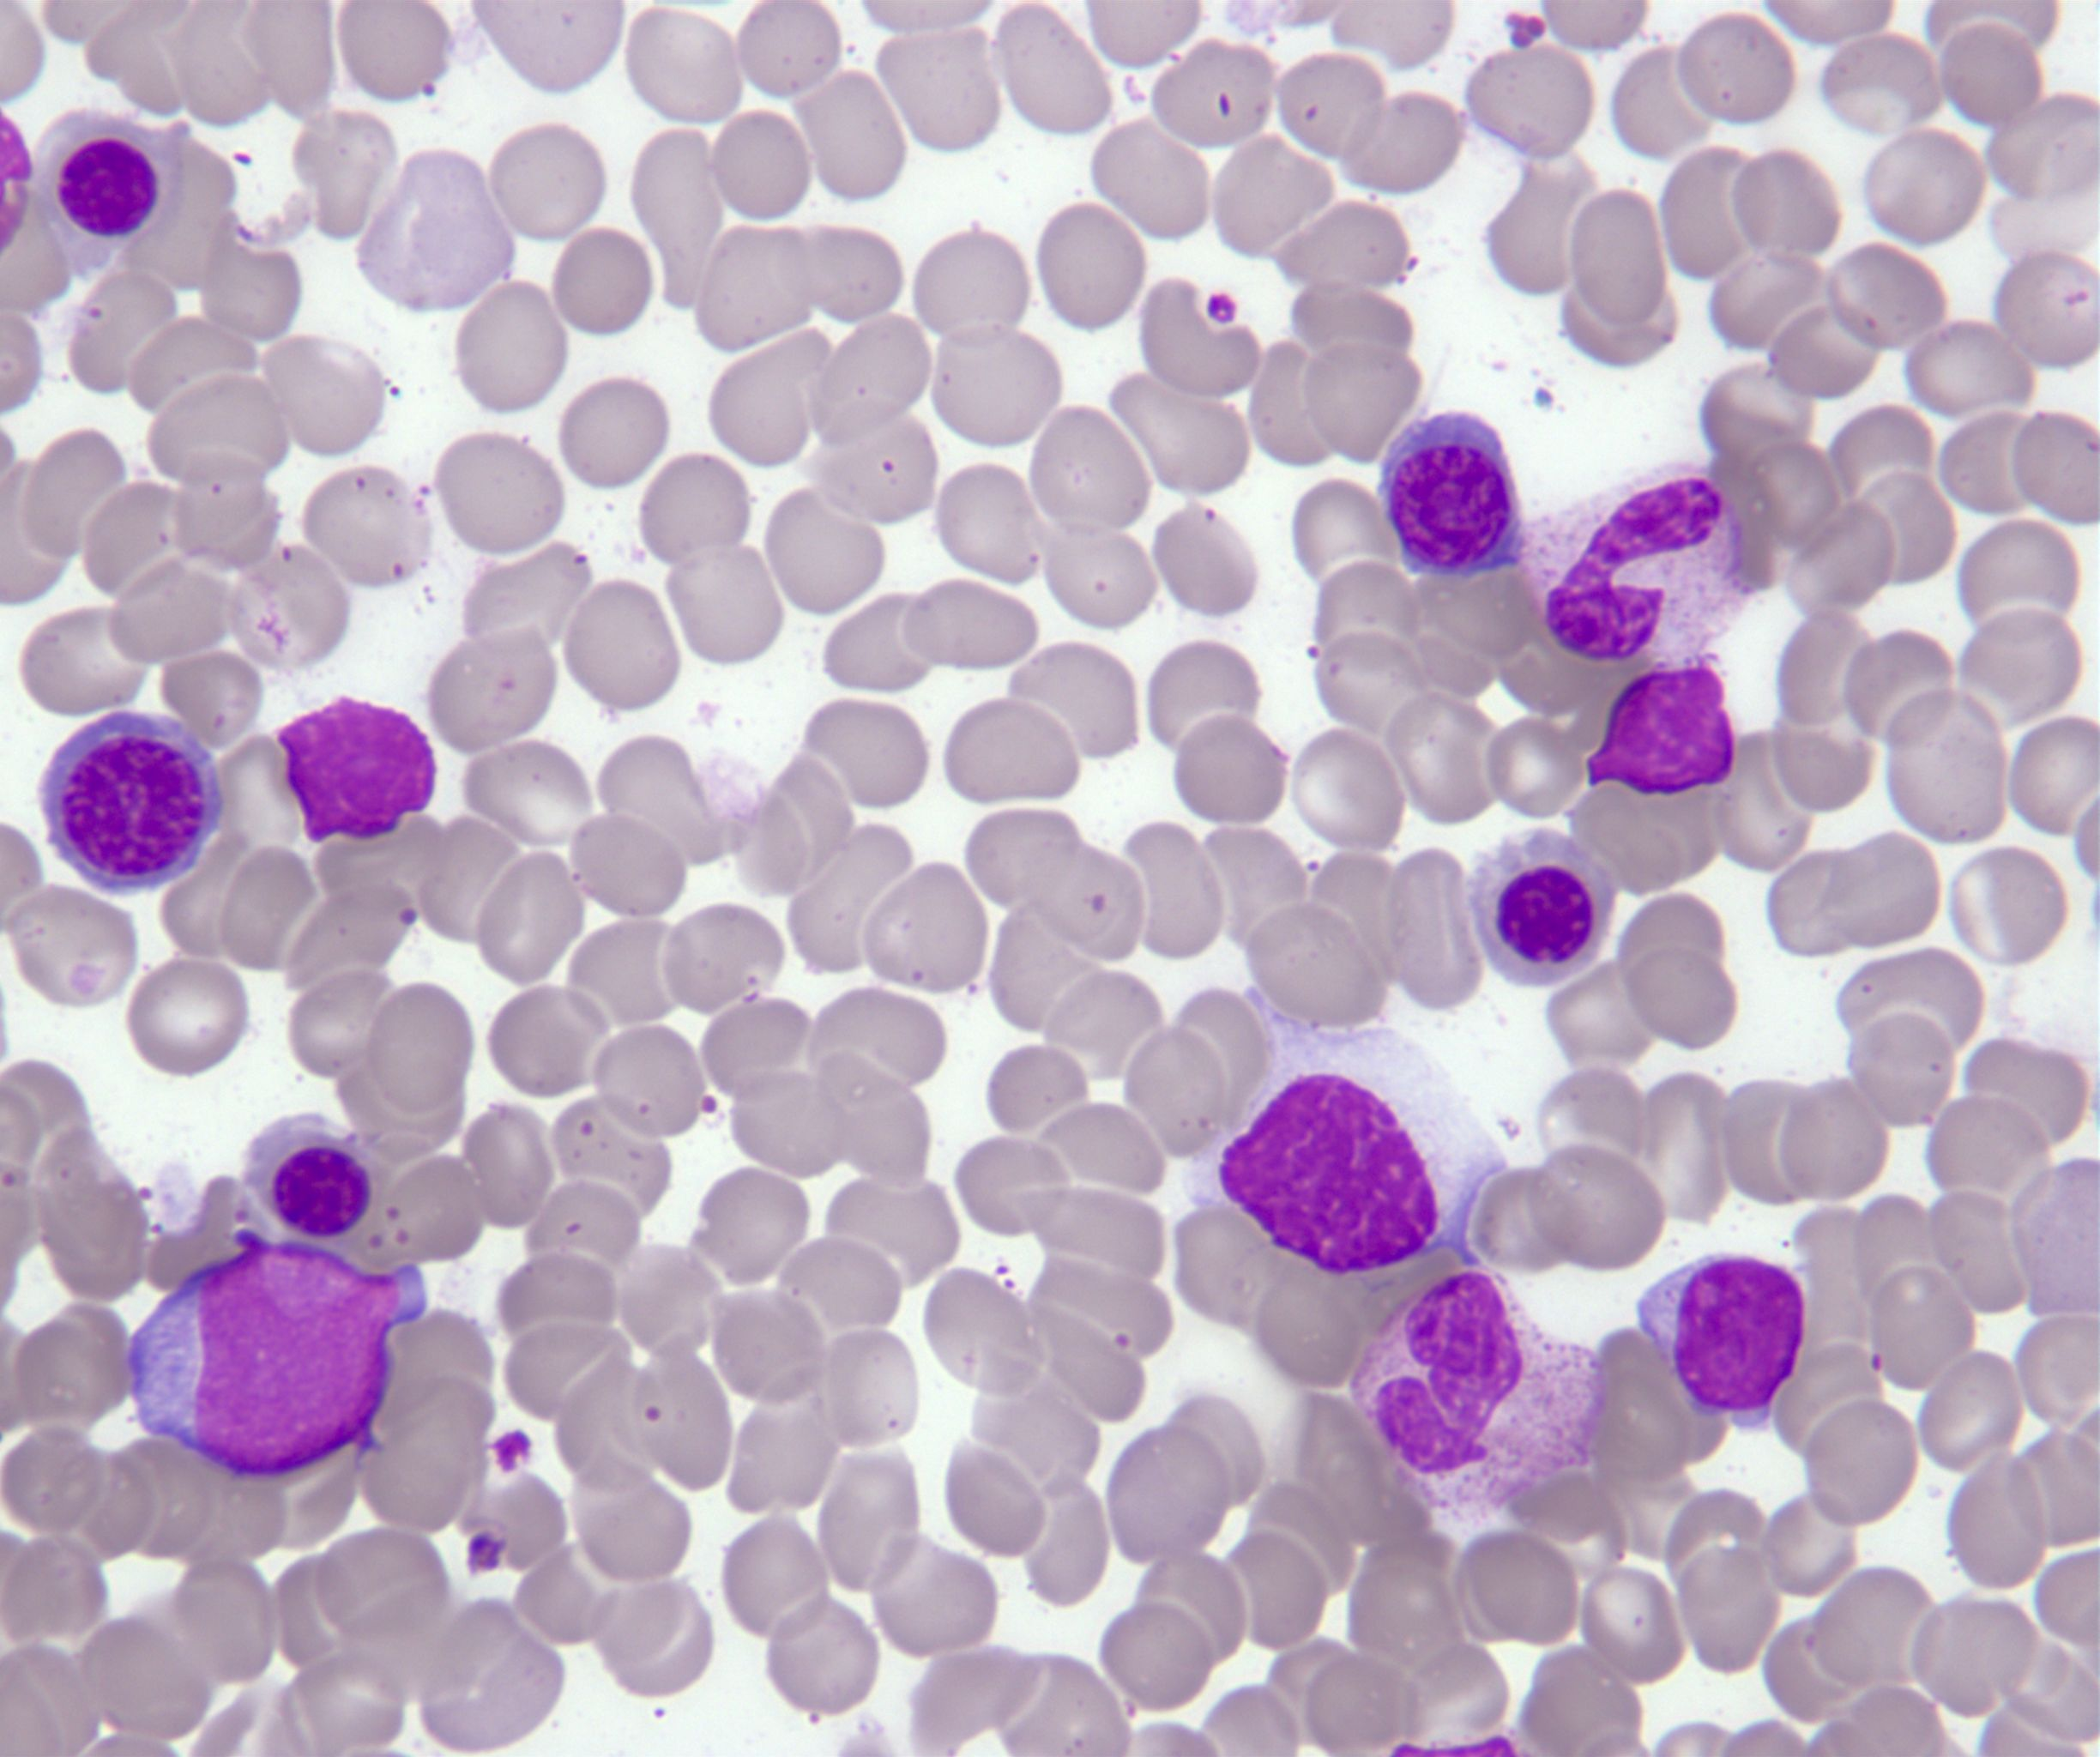1: (127, 1239, 436, 1483)
23: (35, 708, 225, 893), (1371, 408, 1528, 581)
24: (1458, 825, 1620, 991), (35, 105, 180, 251), (237, 1111, 375, 1241)
32: (1631, 1251, 1809, 1436)
5: (1530, 459, 1749, 663)
6: (1345, 1261, 1612, 1534)
x: (1177, 986, 1503, 1281), (269, 691, 438, 848), (1580, 654, 1735, 803)
